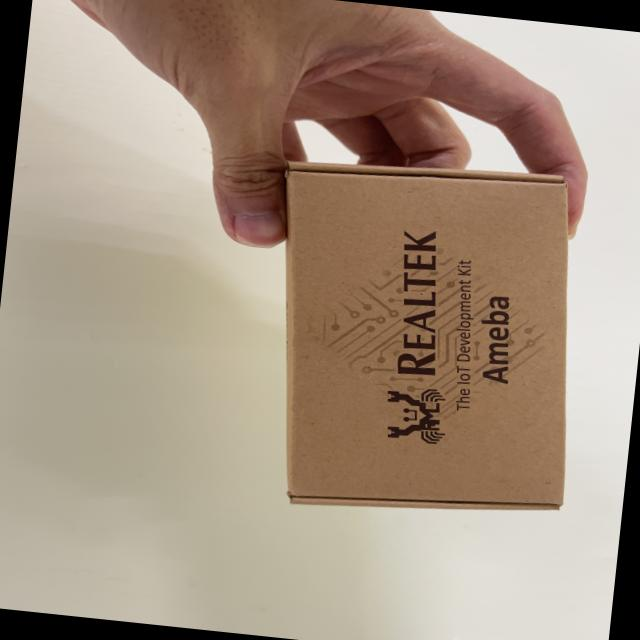box: (233, 138, 616, 548)
